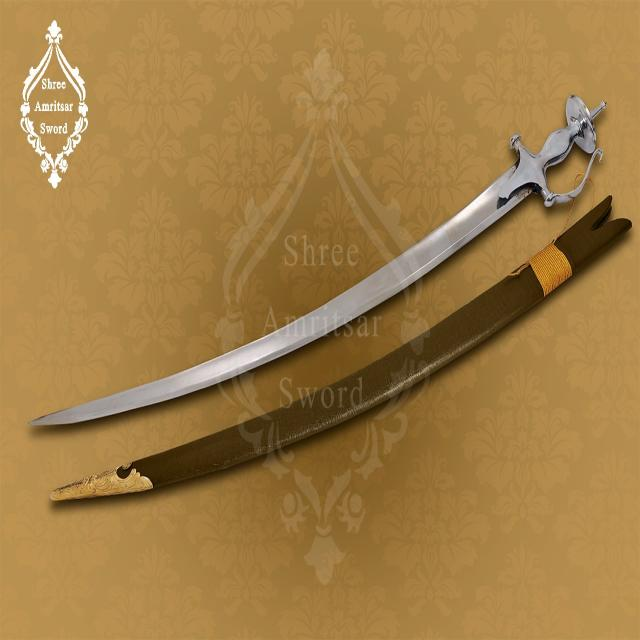Weapon: (22, 81, 614, 450)
